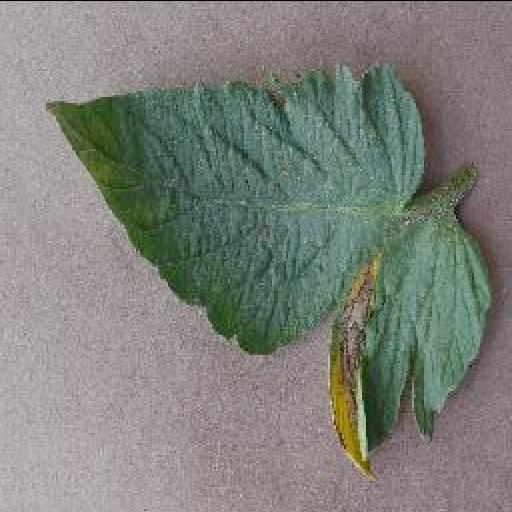disease_tomato: (46, 54, 490, 484)
